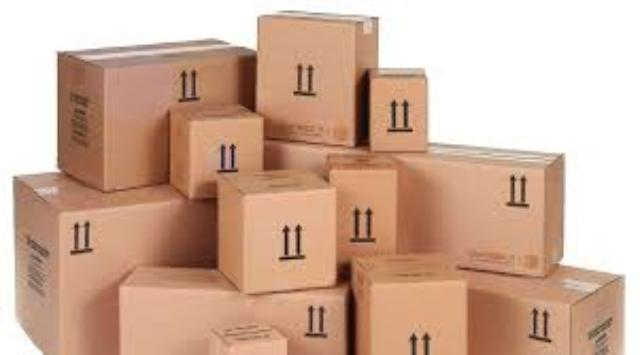cardboard paper: (13, 170, 213, 351), (55, 36, 251, 187), (400, 145, 559, 274), (119, 266, 344, 353), (255, 9, 374, 142), (215, 168, 332, 289), (466, 266, 623, 353), (353, 255, 466, 353), (368, 68, 425, 149)
